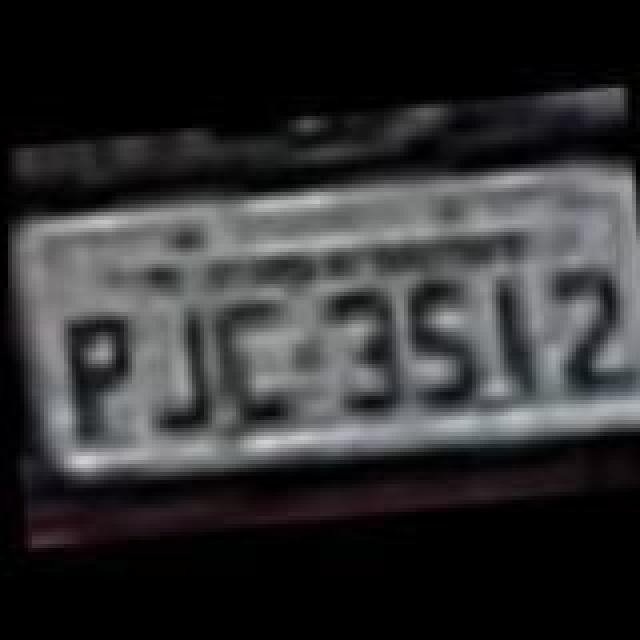1: (474, 264, 542, 408)
2: (540, 260, 640, 404)
3: (312, 278, 404, 422)
5: (394, 270, 486, 414)
C: (200, 290, 300, 430)
J: (134, 292, 222, 436)
P: (52, 302, 144, 446)
